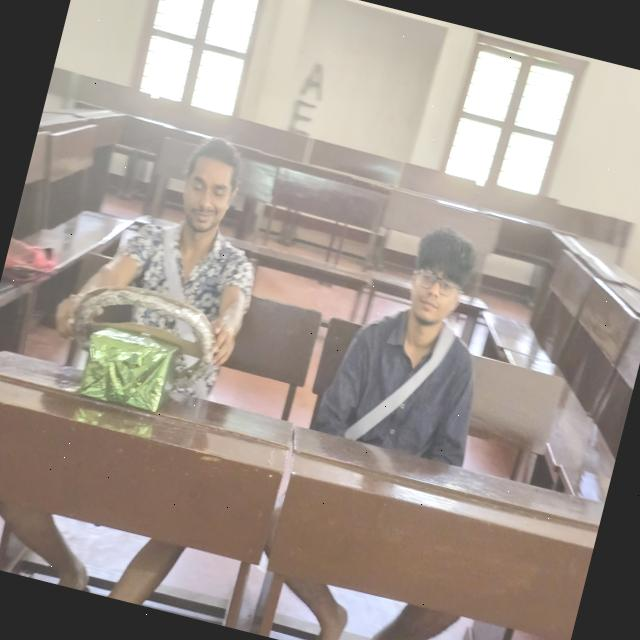seatbelt: (332, 320, 484, 466), (112, 227, 250, 357)
